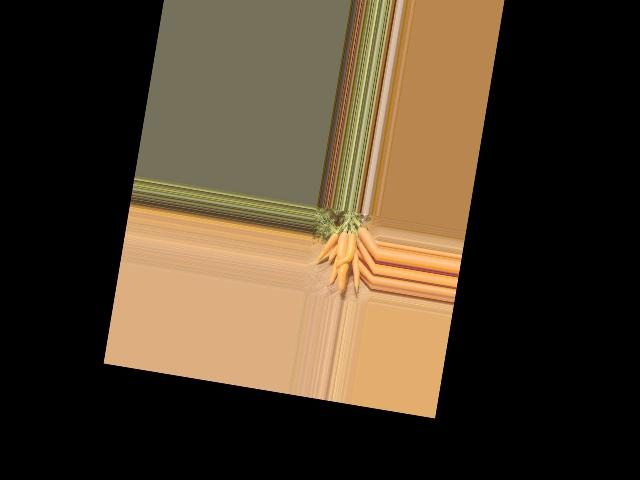carrot: (353, 223, 380, 258)
